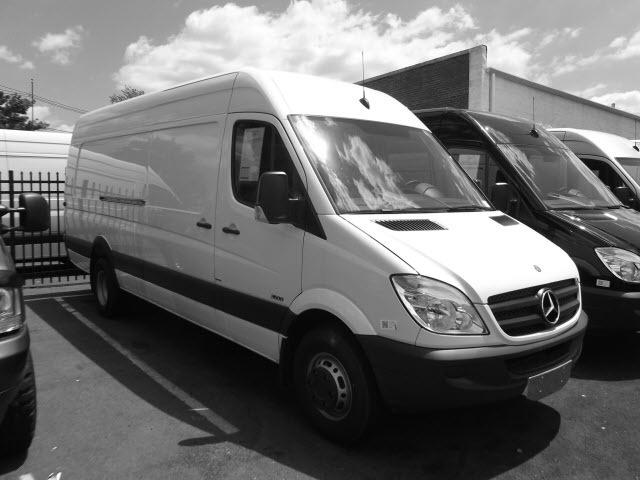car: (62, 51, 594, 452)
